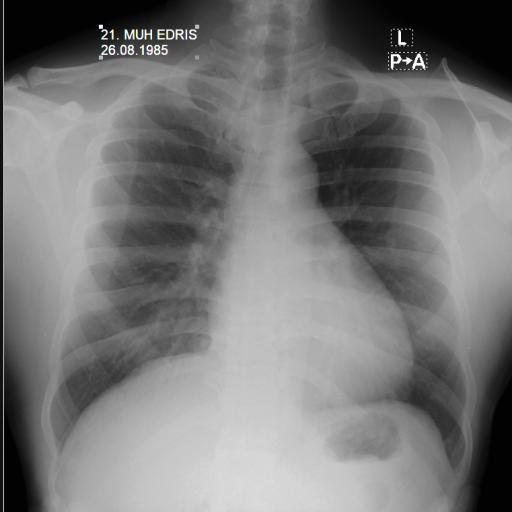kardiomegali: (41, 40, 475, 483)
